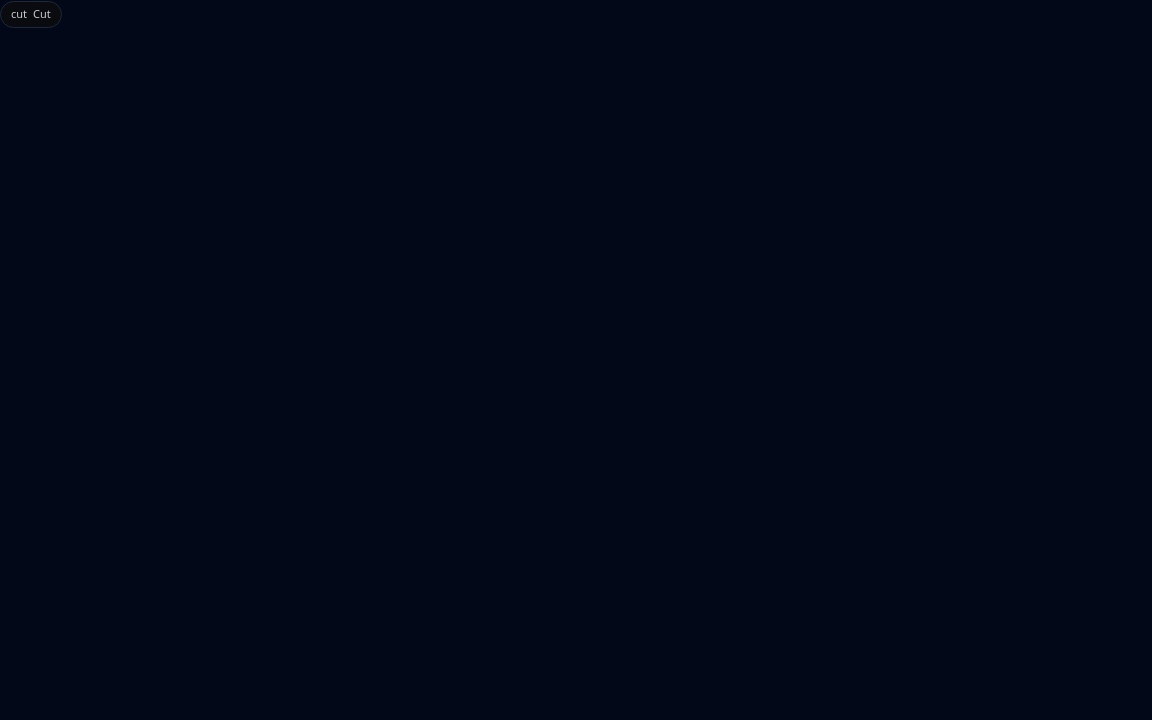
Test: TransitionPicker › opens the Popover on trigger click without exception
Click the button with aria-label "Transition:".
click(31, 14)  # box top-left (0, 1), bottom-right (62, 28)
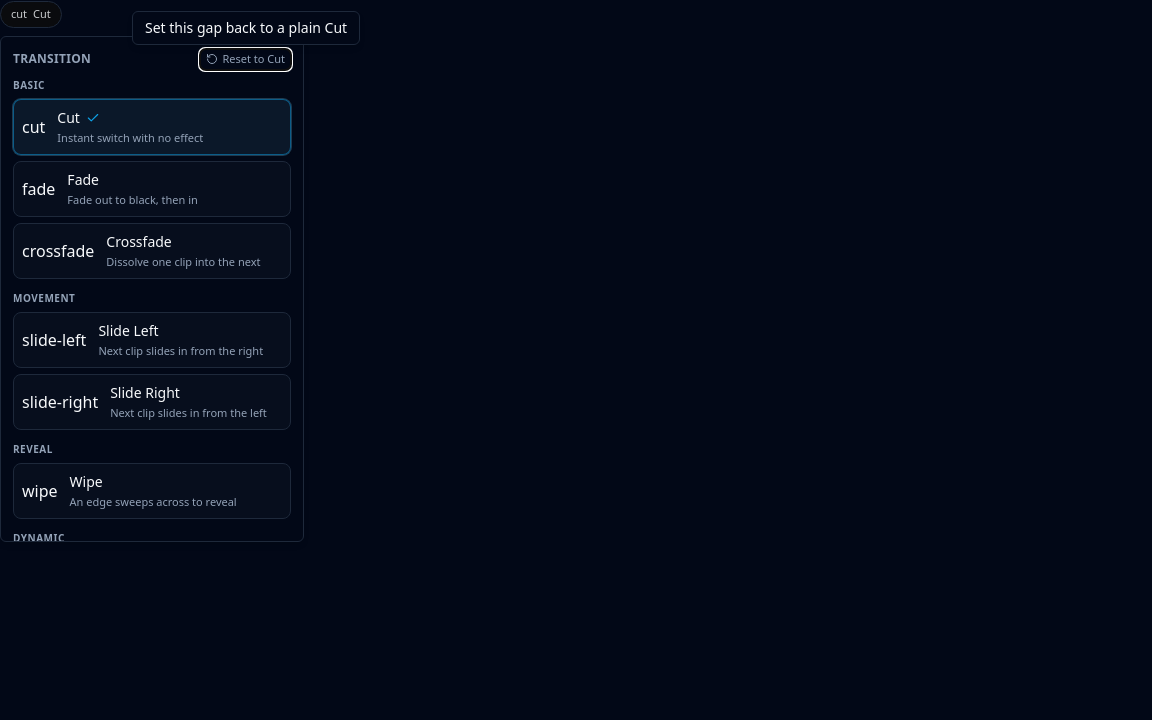
expect the text "Transition" is shown: met, box top-left (13, 51), bottom-right (91, 67)
